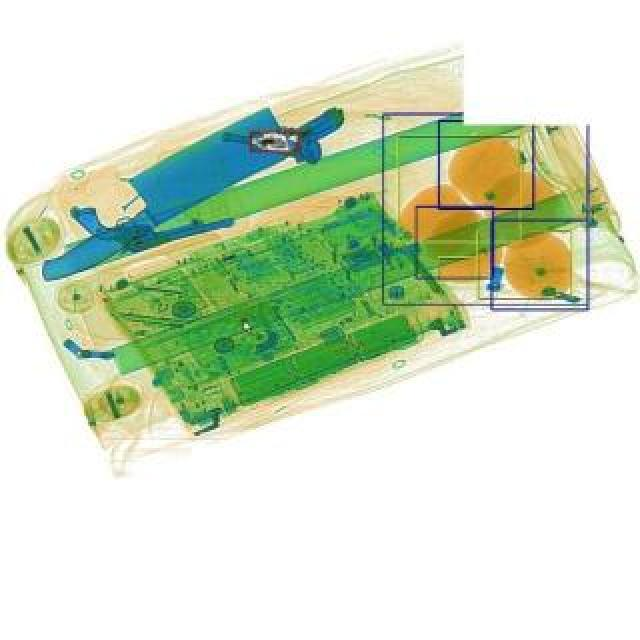gun: (72, 174, 236, 266), (220, 82, 348, 170)
knife: (16, 104, 298, 284)
